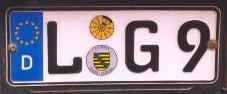9: (176, 19, 212, 75)
G: (124, 19, 160, 74)
L: (46, 20, 83, 75)
